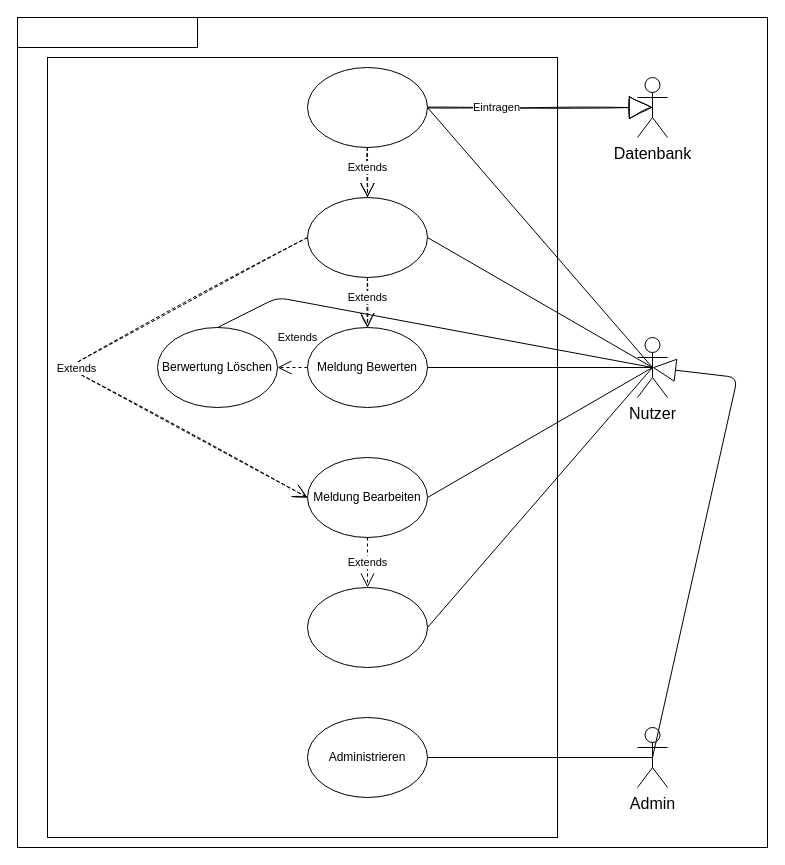
Some shapes in this 785 by 865 pixel diagram are drawn without their labels. Each missing label, with the box of its shape:
Meldung Anzeigen: (306, 196, 428, 278)
Meldung Erstellen: (306, 66, 428, 148)
Meldung Löschen: (306, 586, 428, 668)
UC Kursprojekt: (16, 16, 198, 48)
